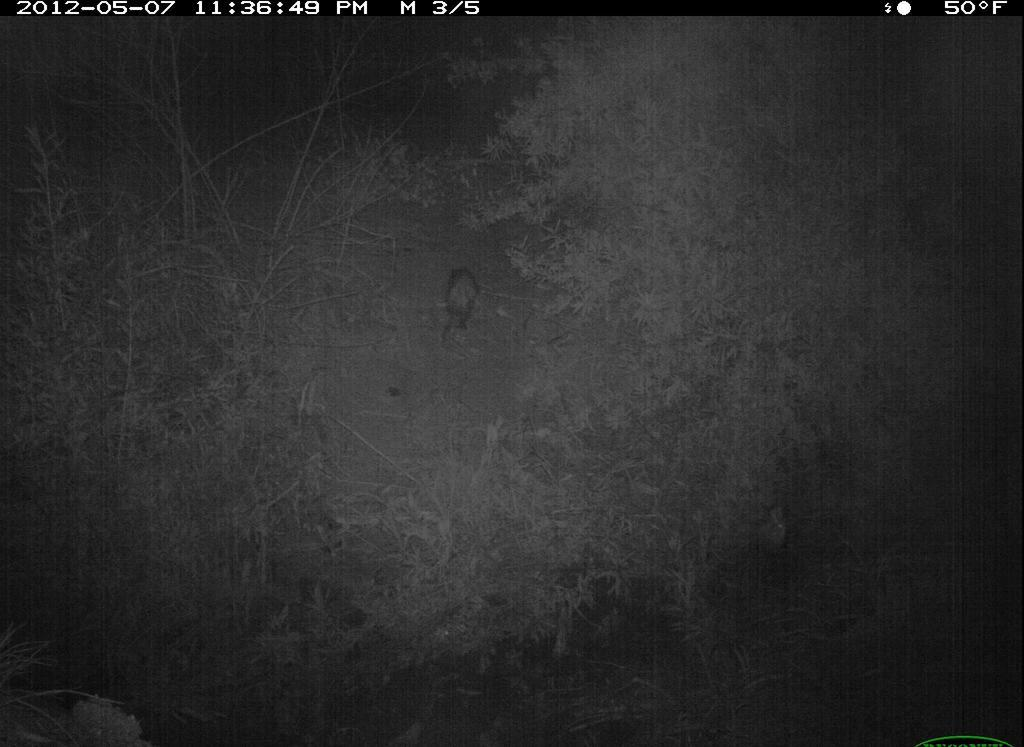opossum: (434, 255, 488, 355)
